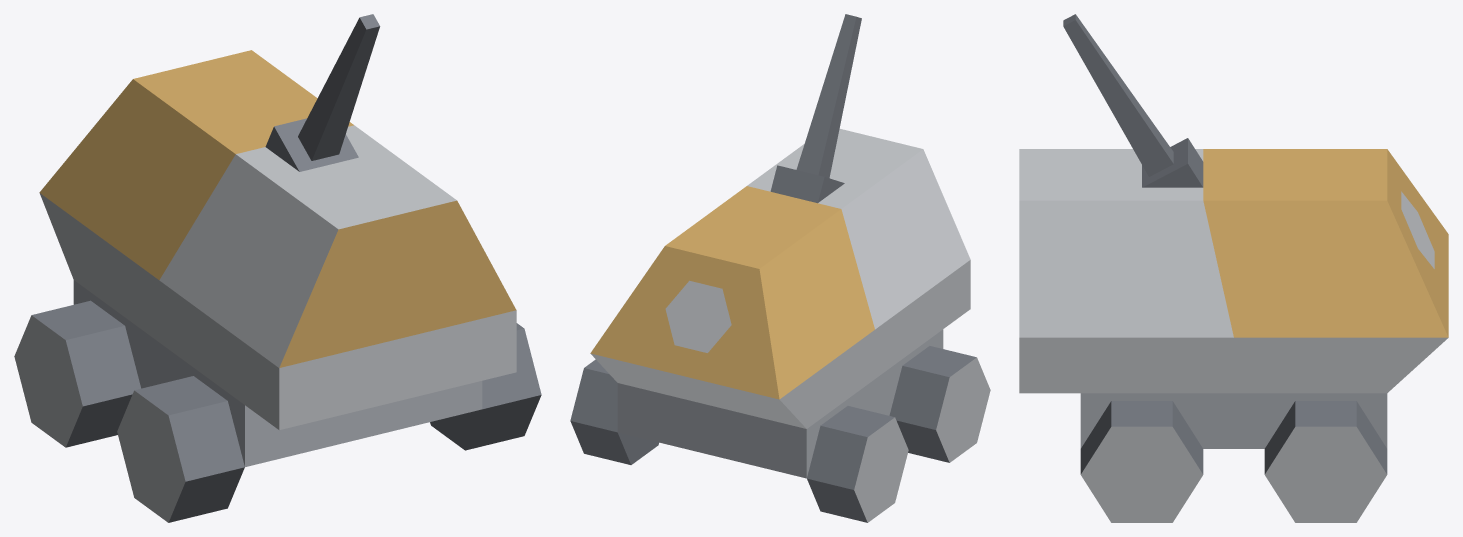
File: rover.glb
3 views of the same model, side by side, from view 1: azimuth 30°, elevation 25°; view 2: azimuth 150°, elevation 25°; view 3: azimuth 270°, elevation 25° (orthographic). The views are drawn at different scales.
Parts seen in each view (by area): view 1: rover; view 2: rover; view 3: rover.
Boxes of the visible parts, box(x1,y1,x2,y2) form: rover: box(14, 14, 541, 522); rover: box(570, 14, 990, 522); rover: box(1019, 14, 1448, 522).
Bounding box in the file's own units: 0.3 × 0.3853 × 0.35.
